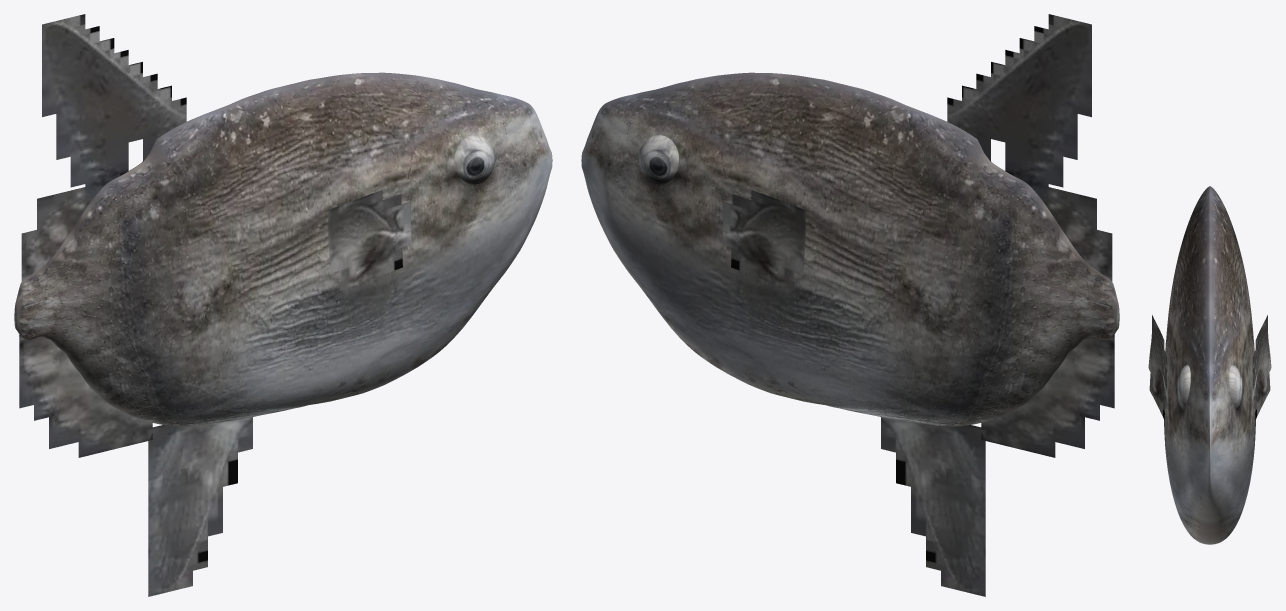
The model's file is real-mola_mola.glb.
3 views of the same model, side by side, from view 1: azimuth 30°, elevation 25°; view 2: azimuth 150°, elevation 25°; view 3: azimuth 270°, elevation 25° (orthographic). The views are drawn at different scales.
Parts seen in each view (by area): view 1: mola_mola; view 2: mola_mola; view 3: mola_mola.
Part boxes in pixels (x1=…): mola_mola: x1=14, y1=14, x2=552, y2=596; mola_mola: x1=581, y1=14, x2=1119, y2=596; mola_mola: x1=1148, y1=186, x2=1271, y2=544.
Bounding box in the file's own units: 3.33 × 3.54 × 0.7614.
Materials: 1 (1 with a texture image).
